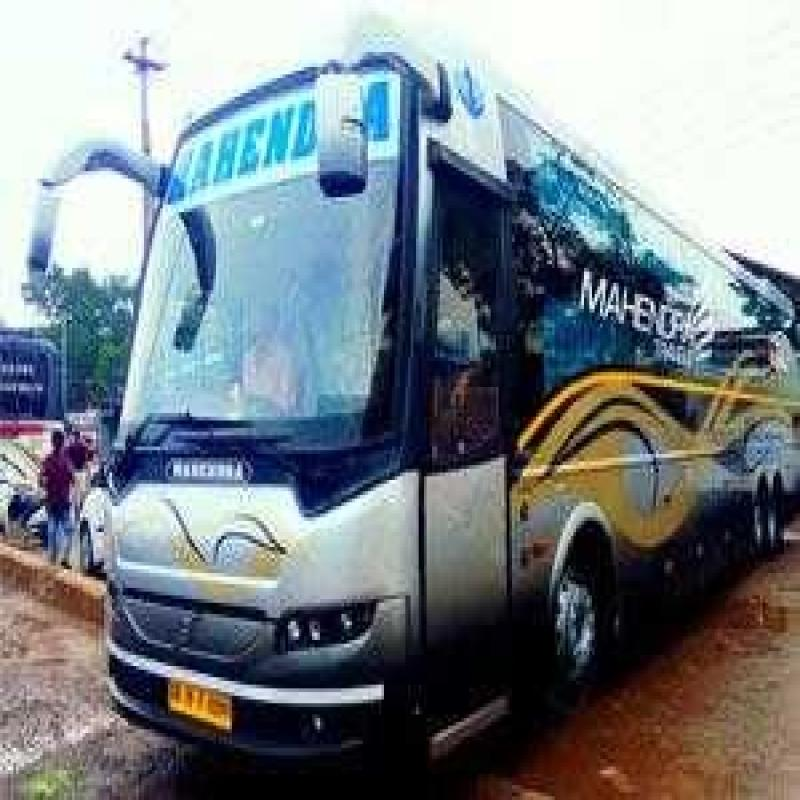bus: (71, 46, 800, 790)
